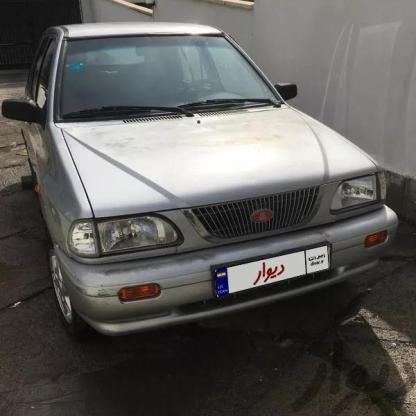Car: (7, 16, 396, 359)
